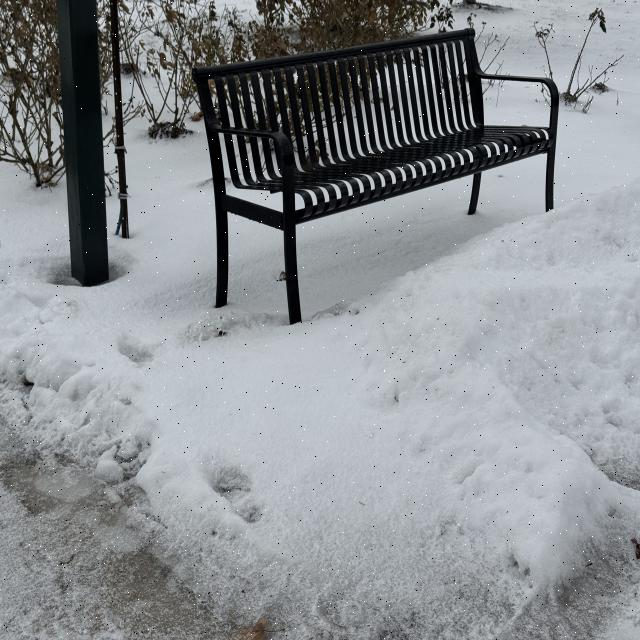Bench: (193, 22, 558, 322)
